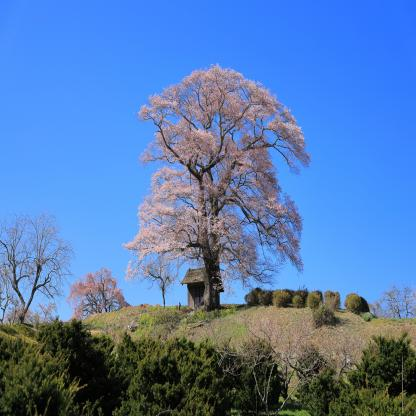EdohiganSakura: (122, 63, 312, 306), (64, 265, 131, 325)
